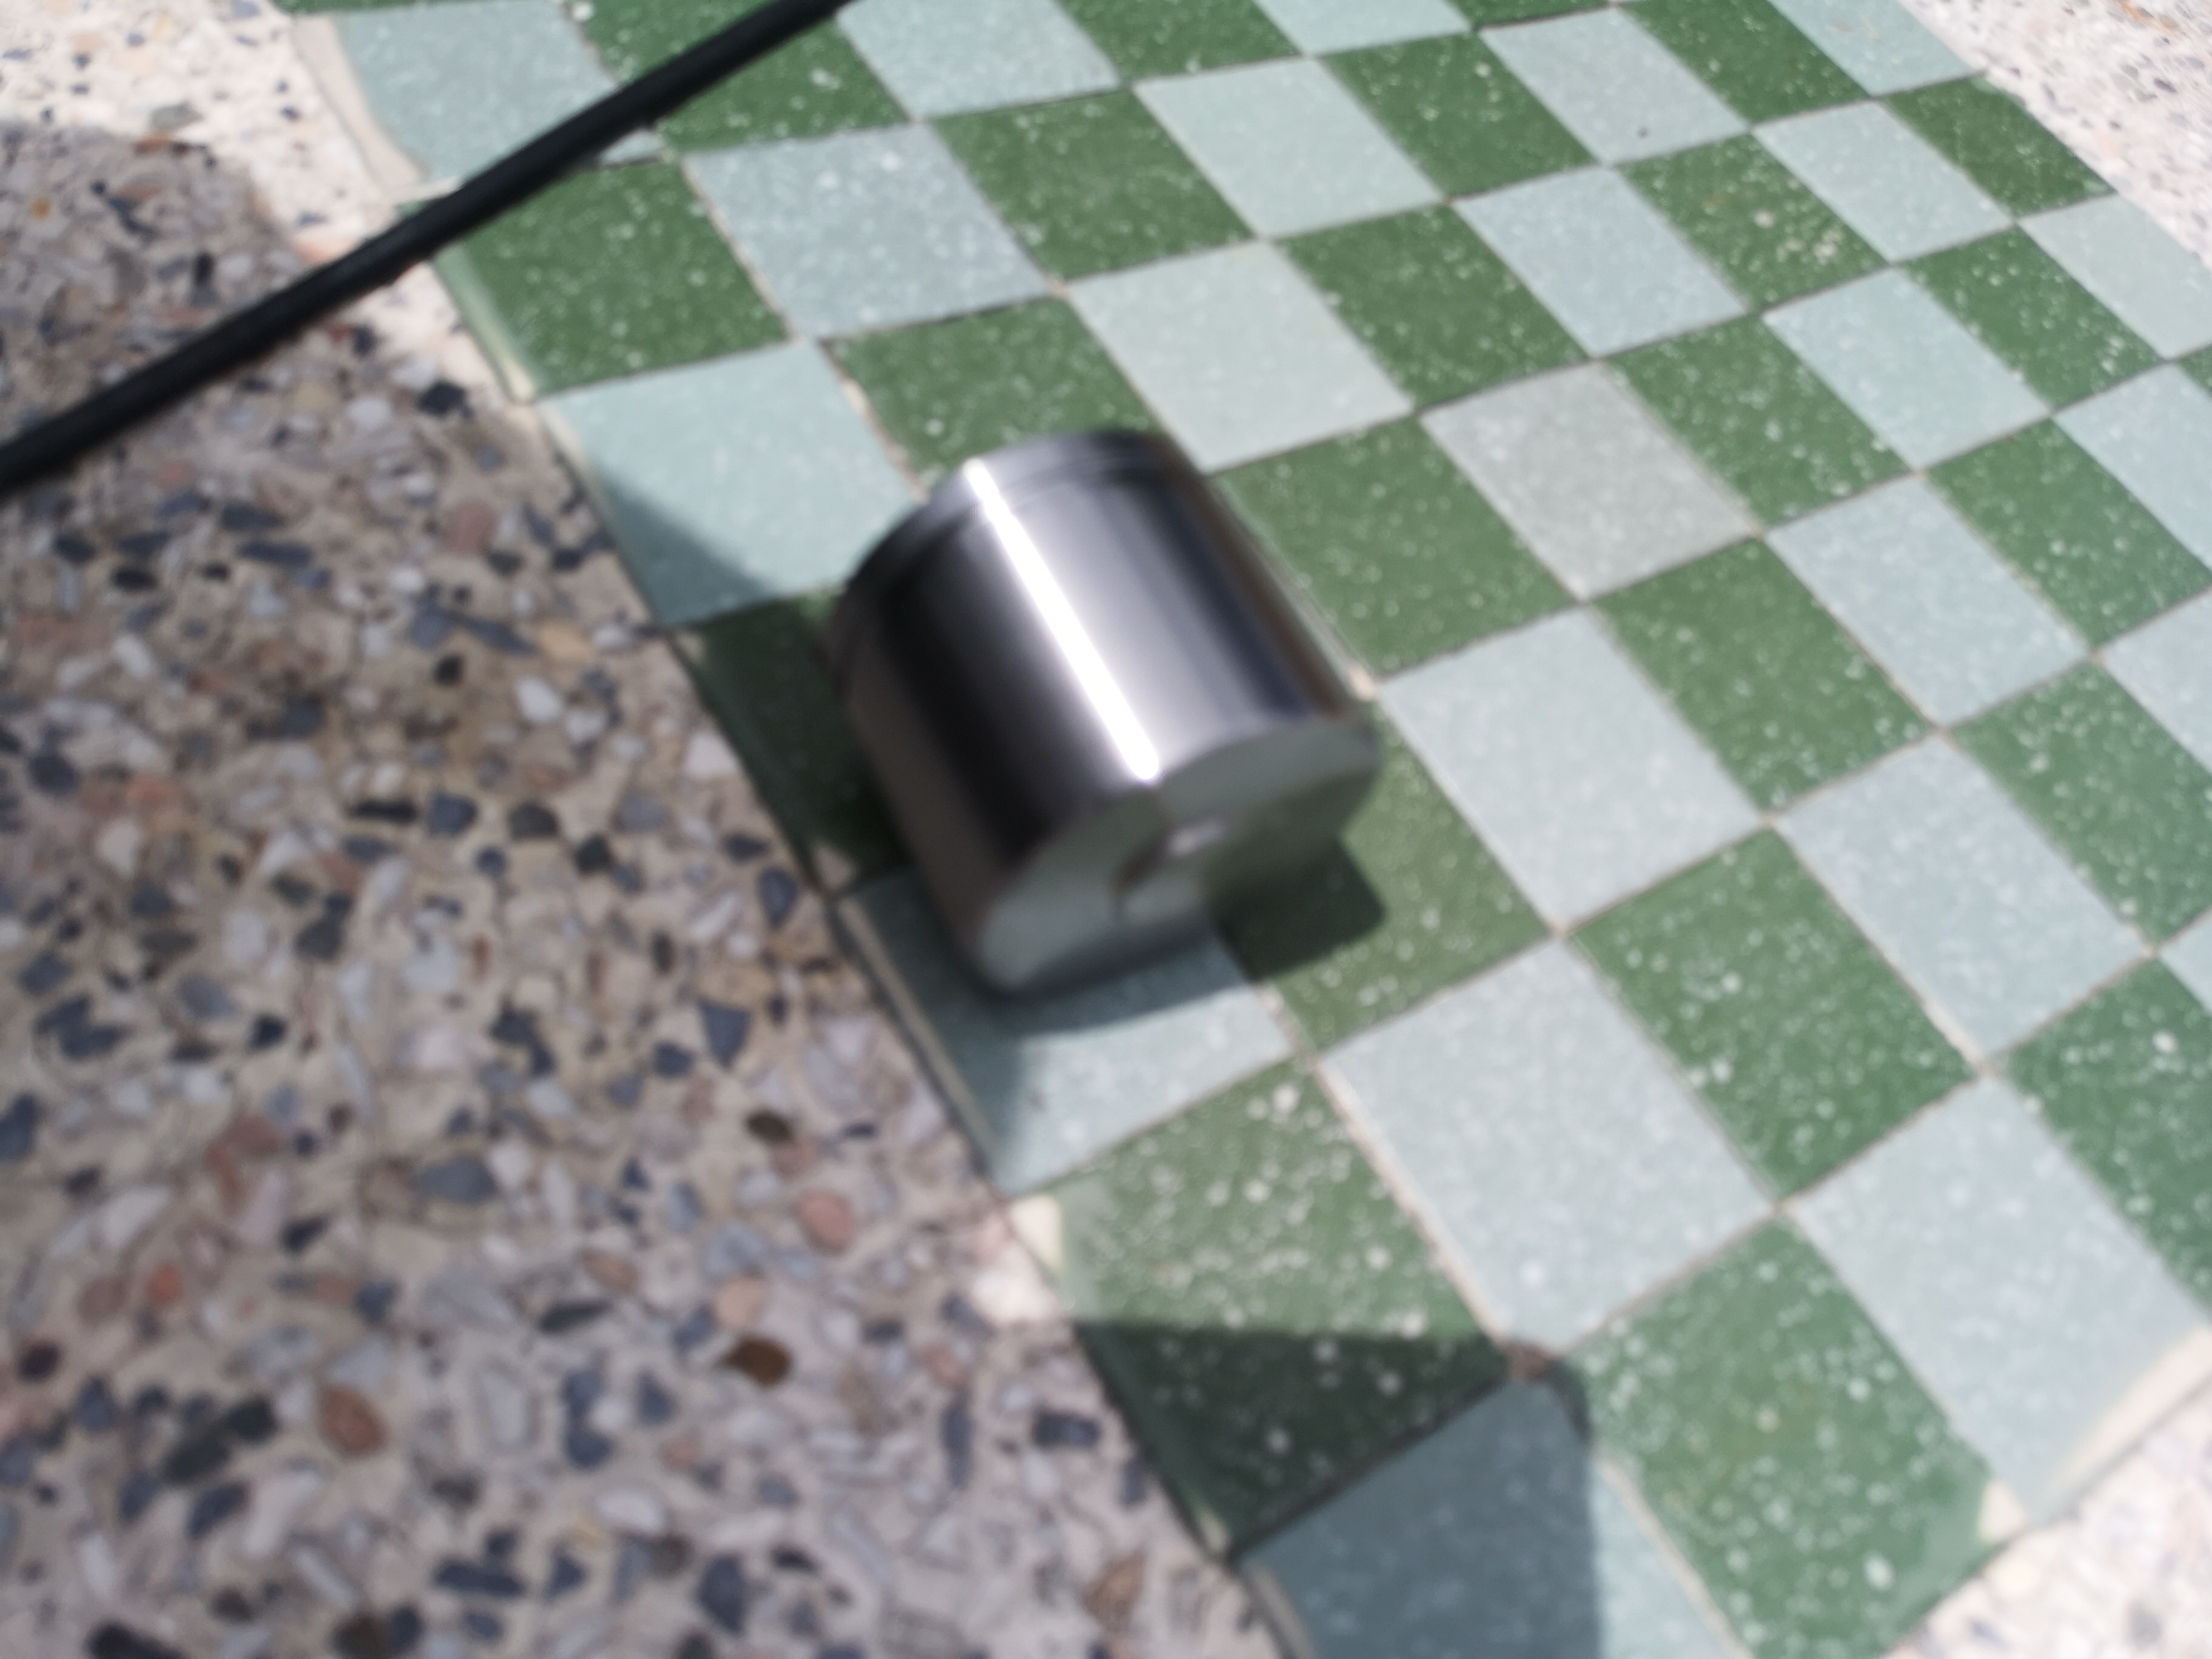ลูกสูบดิสเบรค: (799, 423, 1418, 1040)
